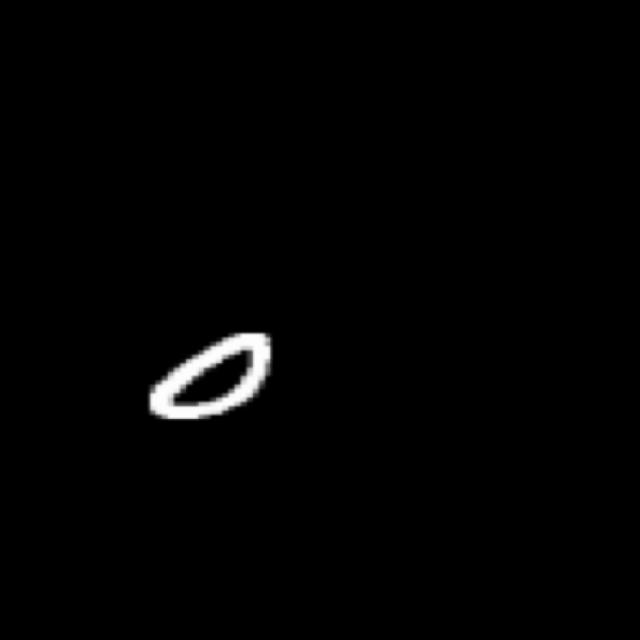zero -0-: (116, 314, 292, 442)
